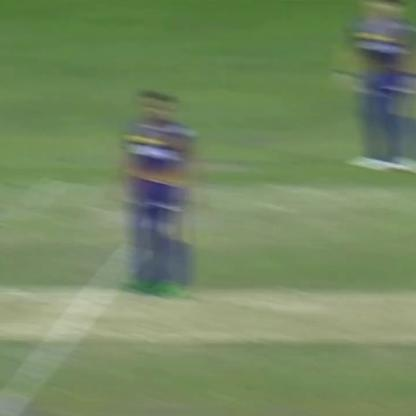pitch: (0, 282, 415, 369)
